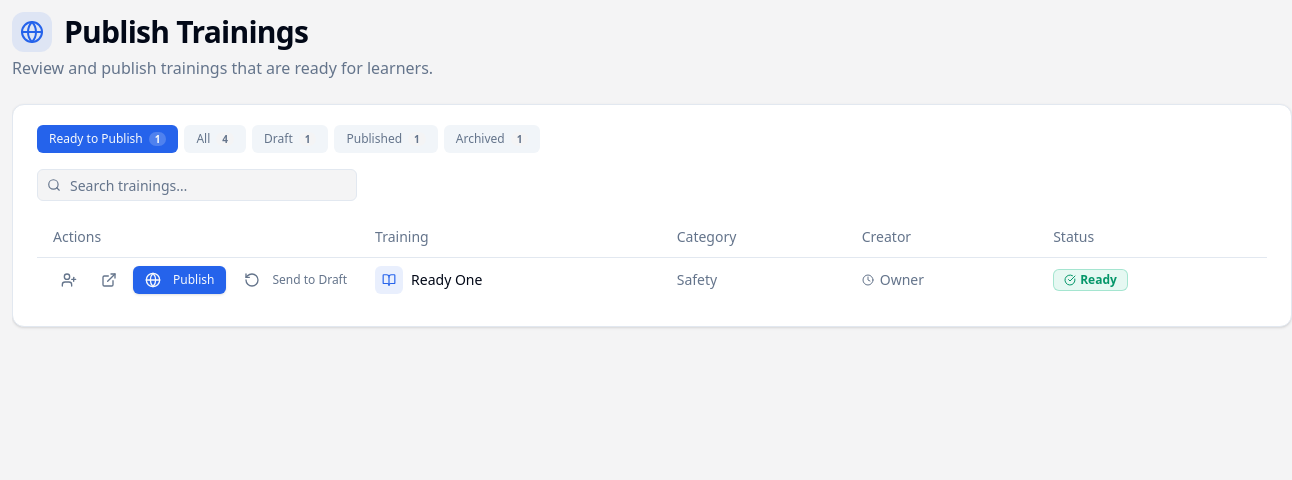
Scenario: ManagerPublishTrainings › switching to "All" shows every training
Expected: the text "Ready One" is shown, [411, 270, 482, 290]
Click the button "All 4" at (215, 139), box [184, 125, 246, 153]
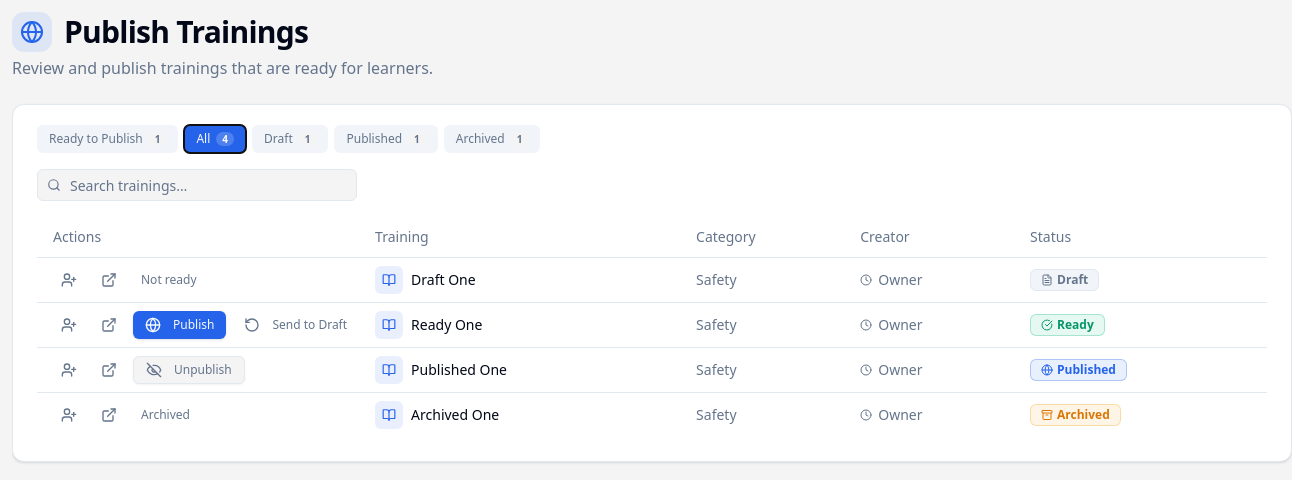
Result: the text "Draft One" is shown at [411, 270, 476, 290]
Result: the text "Published One" is shown at [411, 360, 507, 380]
Result: the text "Archived One" is shown at [411, 404, 499, 424]
